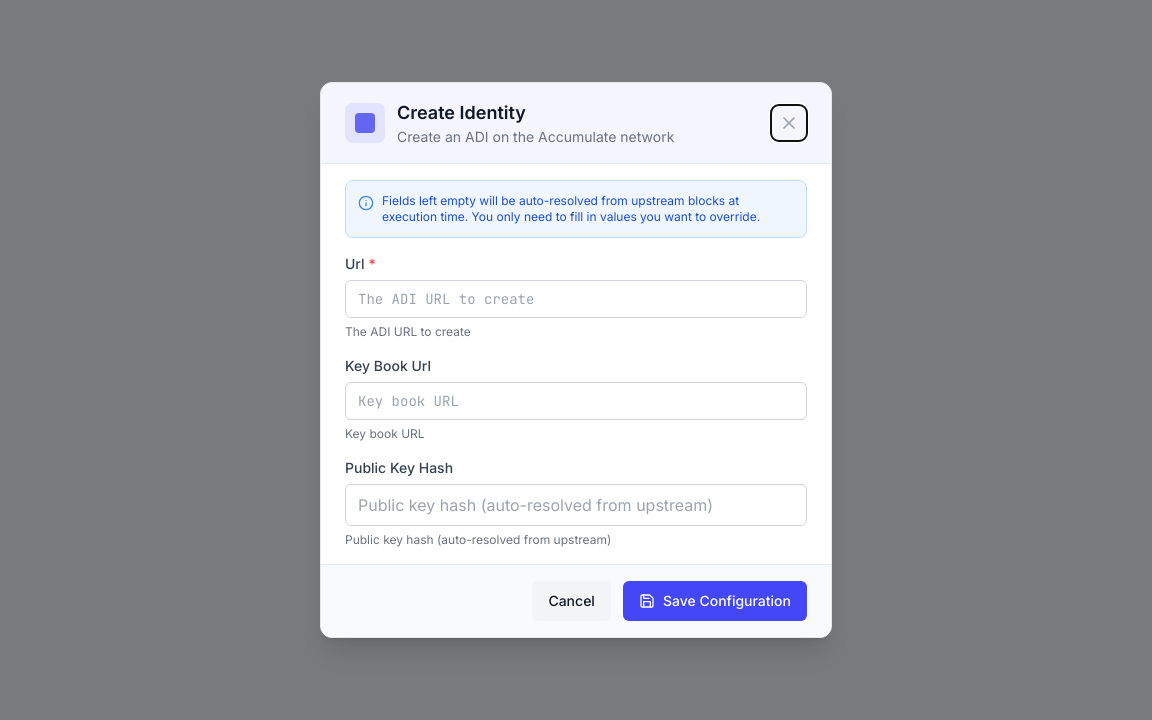
BlockConfigModal › does not save when a required field is empty
The width and height of the screenshot is (1152, 720).
Click the button "Save Configuration" at {"x": 715, "y": 601}, box [623, 581, 807, 621]
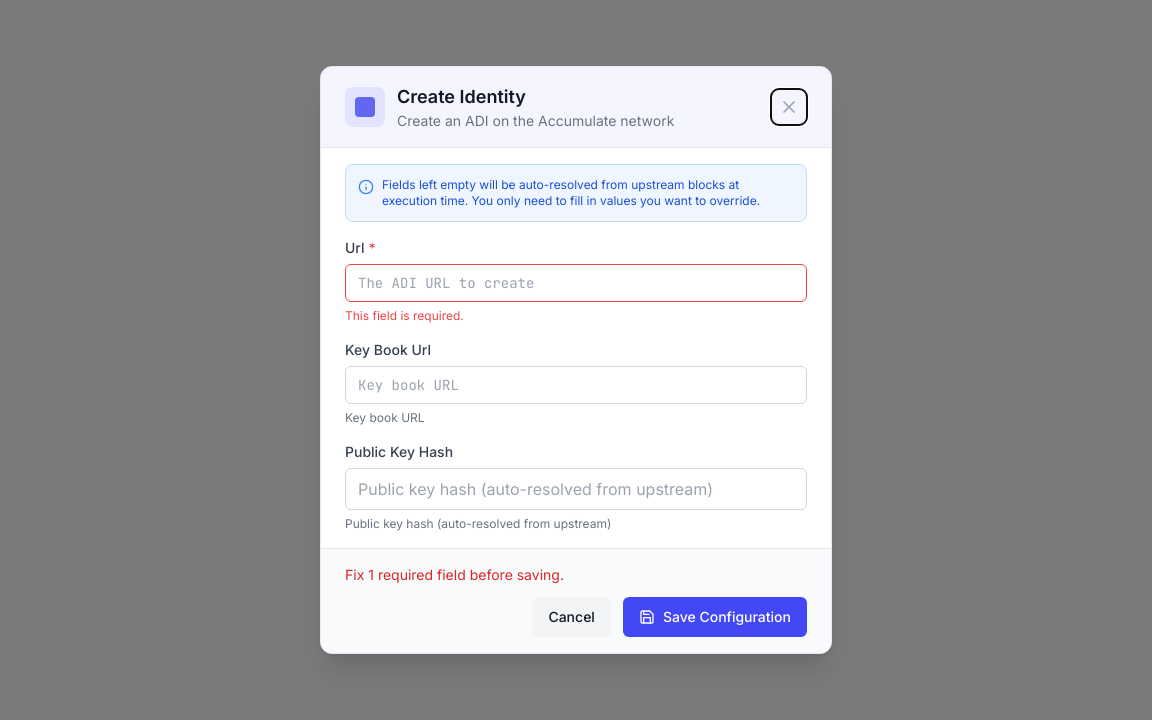
Expected: the text "Fix 1 required field before saving." is shown, [345, 566, 564, 583]
Expected: the text "This field is required." is shown, [345, 308, 464, 323]
